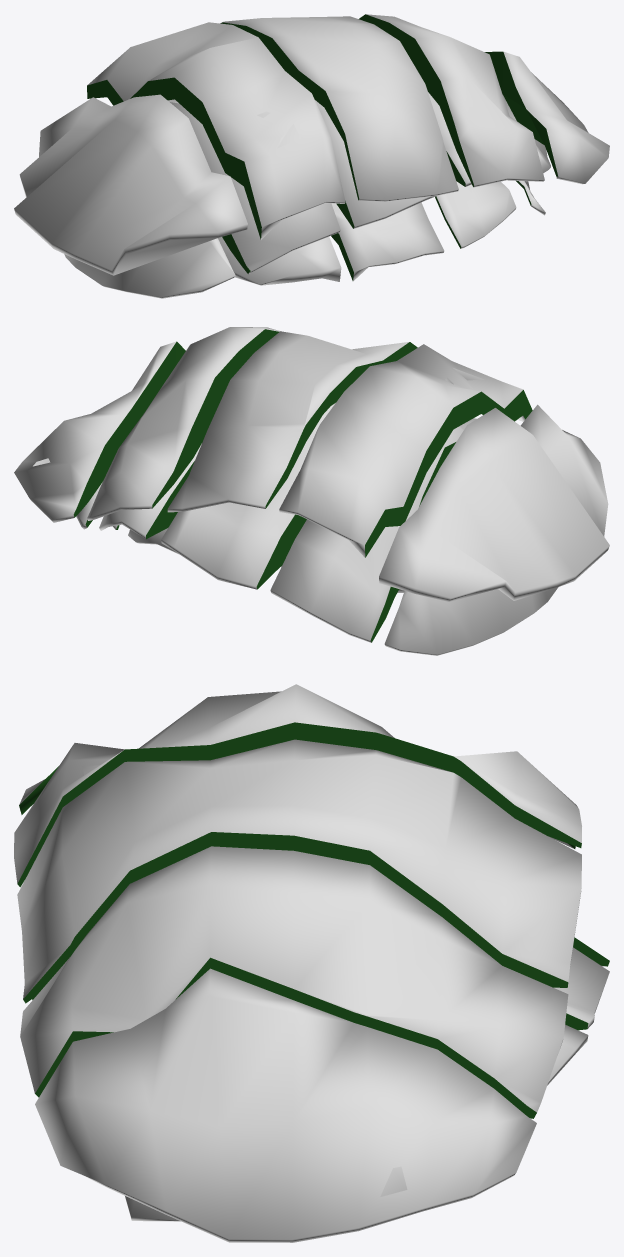
Rendered from DogranmisMarul.fbx.
The picture shows the model from 3 angles, top to bottom: view 1: azimuth 30°, elevation 25°; view 2: azimuth 150°, elevation 25°; view 3: azimuth 270°, elevation 25°; orthographic projection. The views are drawn at different scales.
Visible parts, largest first — view 1: kapaliMarul.001; view 2: kapaliMarul.001; view 3: kapaliMarul.001.
Boxes of the visible parts, bbox=[...] form: kapaliMarul.001: bbox=[14, 14, 609, 298]; kapaliMarul.001: bbox=[14, 327, 609, 655]; kapaliMarul.001: bbox=[14, 684, 609, 1242].
Bounding box in the file's own units: 186 × 68.92 × 111.
